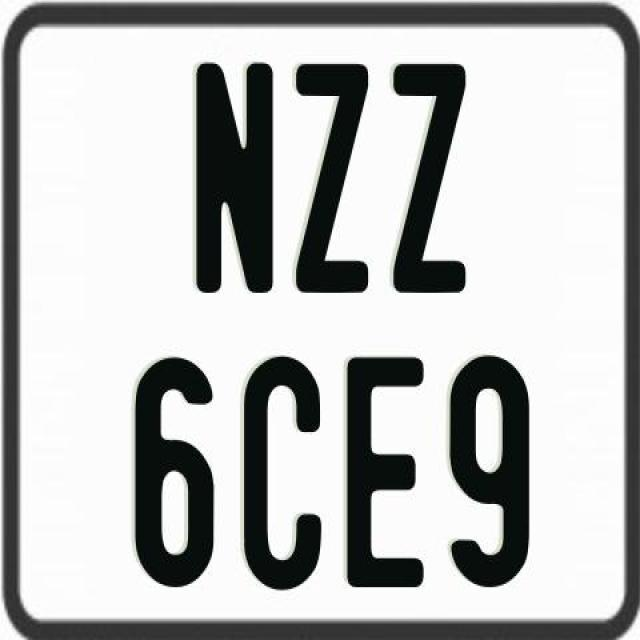6: (130, 355, 214, 595)
9: (445, 356, 531, 596)
C: (241, 357, 320, 590)
E: (342, 356, 427, 588)
N: (193, 58, 272, 296)
Z: (392, 63, 467, 294), (295, 64, 368, 293)
